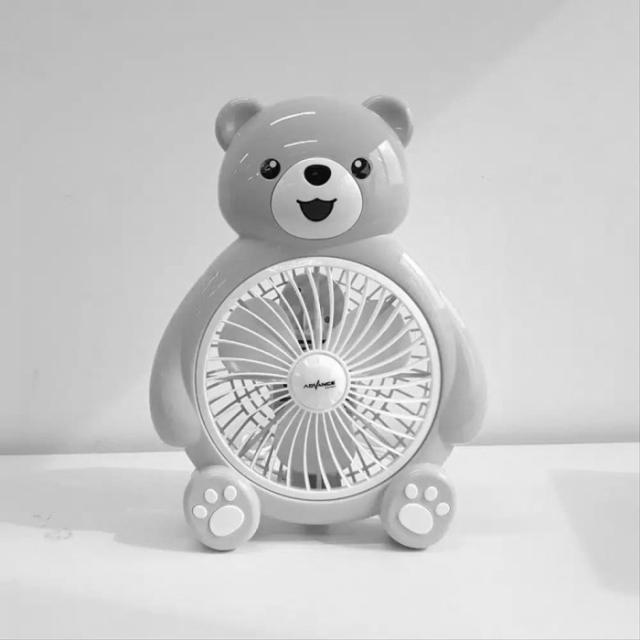fan: (142, 83, 494, 562)
